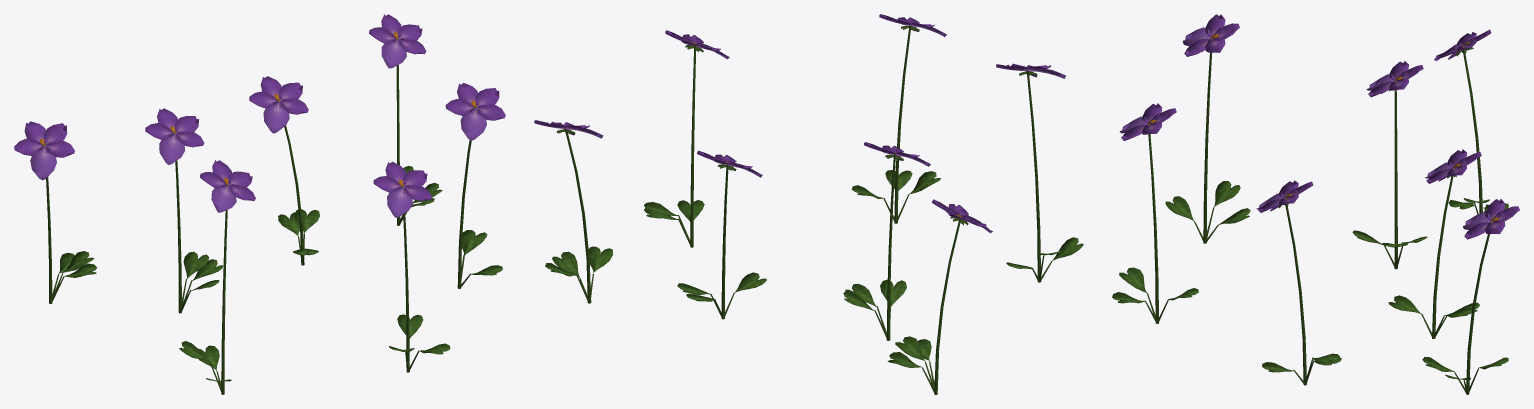
Rendered from flower_violet.fbx.
3 views of the same model, side by side, from view 1: azimuth 30°, elevation 25°; view 2: azimuth 150°, elevation 25°; view 3: azimuth 270°, elevation 25° (orthographic). The views are drawn at different scales.
Visible parts, largest first — view 1: flower_violet; view 2: flower_violet; view 3: flower_violet.
Part boxes in pixels (x1,y1,x2,y2): flower_violet: [14, 14, 505, 394]; flower_violet: [534, 14, 1083, 394]; flower_violet: [1112, 14, 1519, 394].
Size of what is drawn, in the model's own units: 0.67 by 0.3356 by 0.5529.
Materials: 1 (1 with a texture image).
